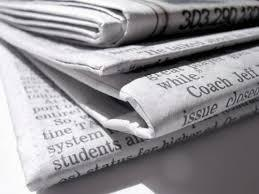Printing industry: (2, 4, 259, 194)
